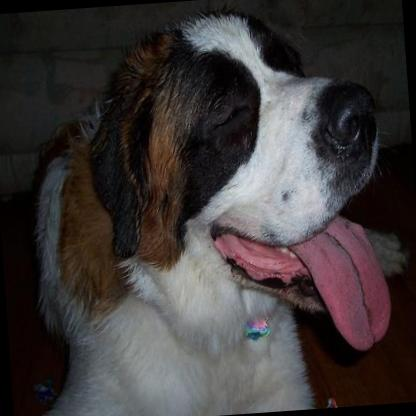Saint_Bernard: (5, 0, 399, 416)
